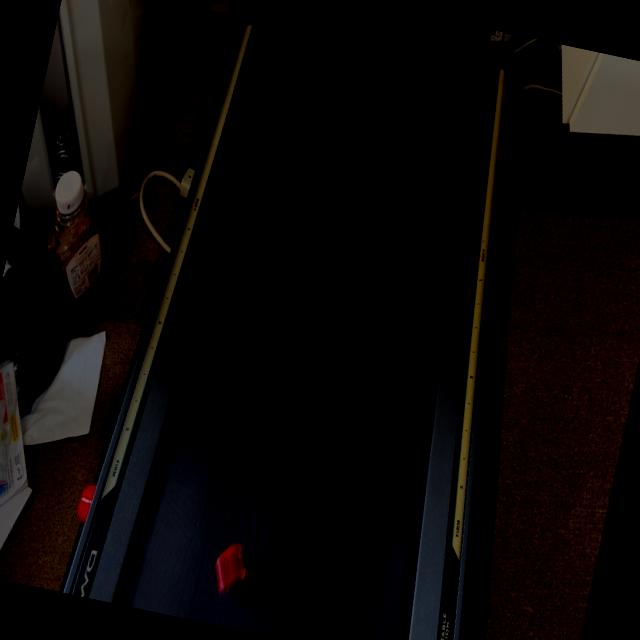Recycle: (208, 538, 252, 598)
